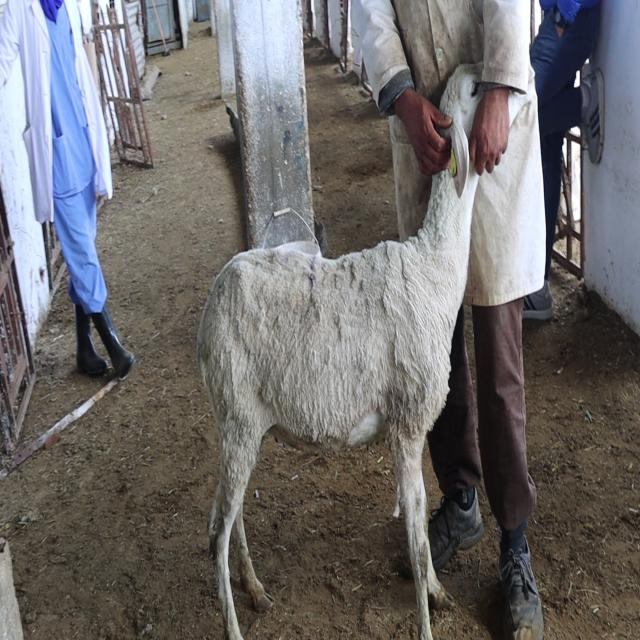Score_1: (197, 63, 479, 639)
